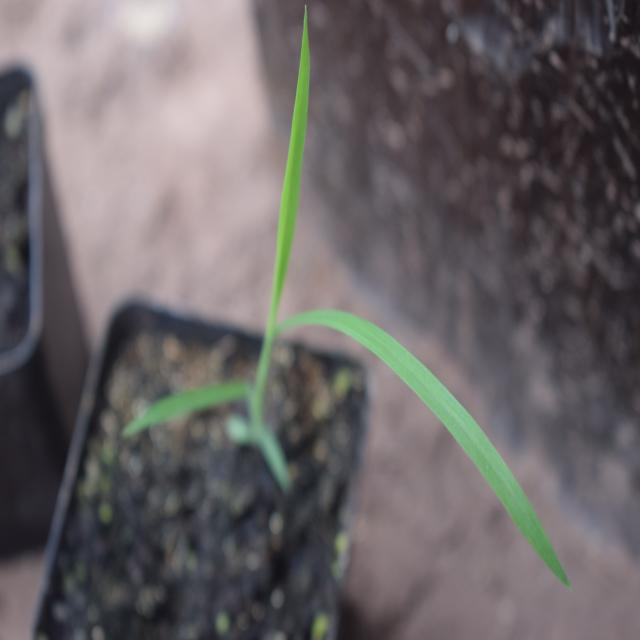crabgrass: (179, 8, 557, 580)
